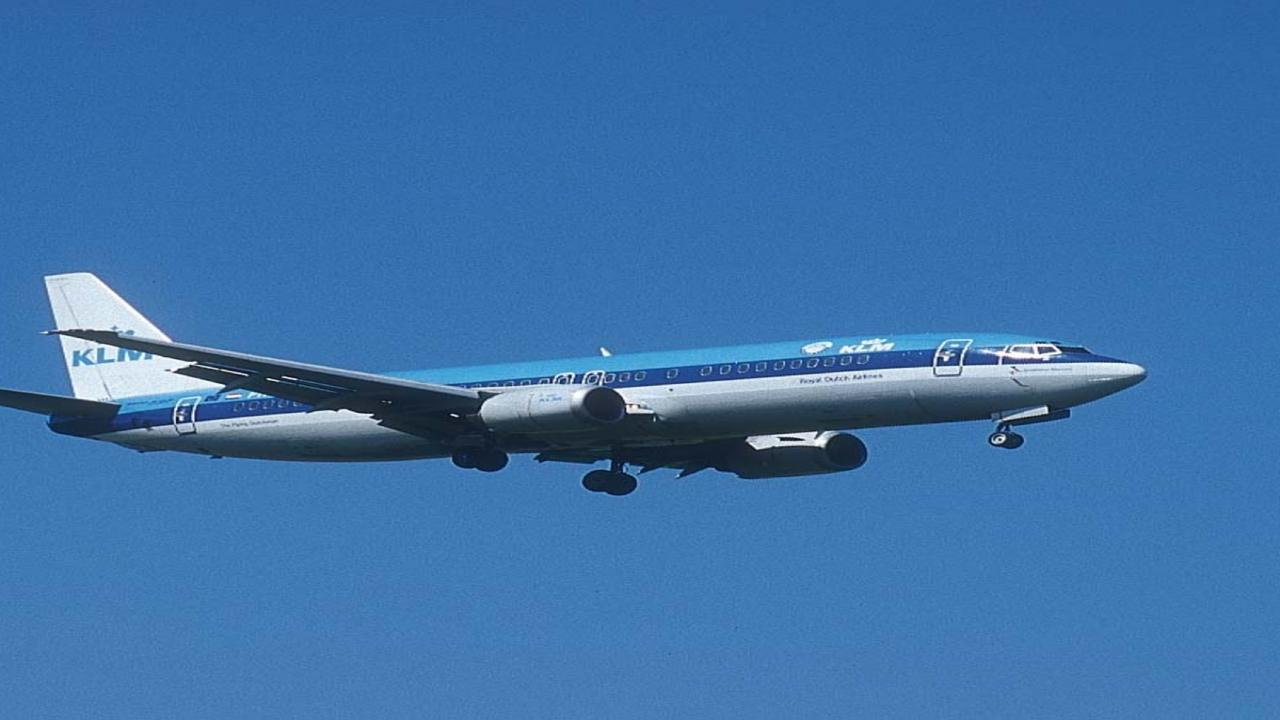Airplane: (0, 256, 1170, 520)
